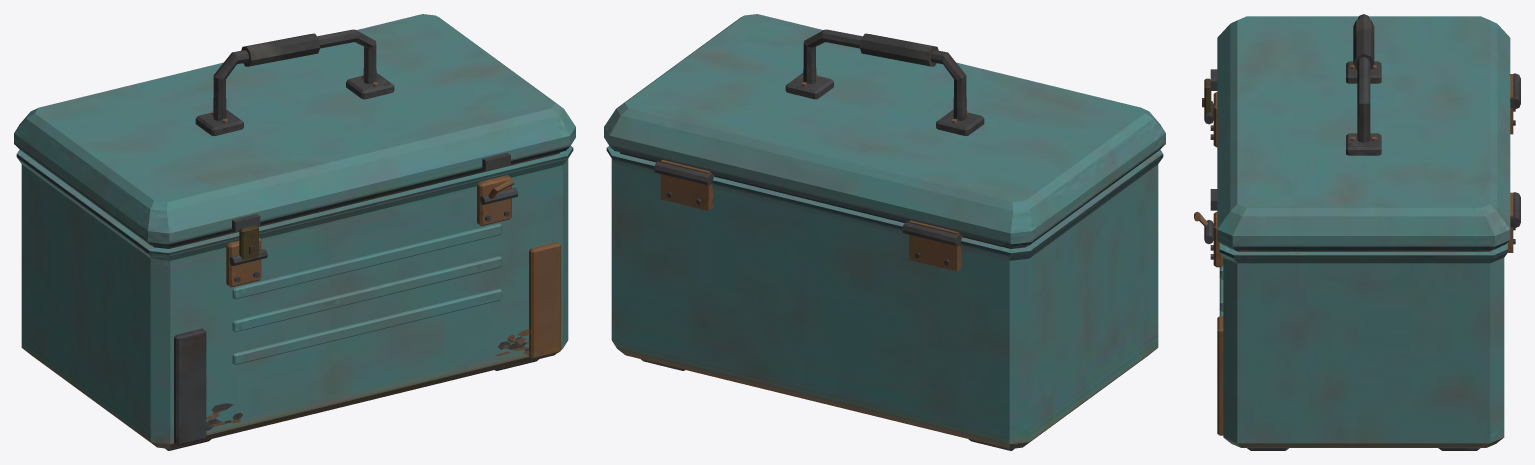
The model's file is D24_metal_toolbox_v2.glb.
3 renders of one model, left to right at view 1: azimuth 30°, elevation 25°; view 2: azimuth 150°, elevation 25°; view 3: azimuth 270°, elevation 25°, orthographic. The views are drawn at different scales.
Parts seen in each view (by area): view 1: Metal Toolbox; view 2: Metal Toolbox; view 3: Metal Toolbox.
Boxes of the visible parts, x1,y1,x2,y2 form: Metal Toolbox: [14, 14, 575, 450]; Metal Toolbox: [604, 14, 1165, 450]; Metal Toolbox: [1194, 14, 1520, 450].
Size of the model in its own units: 0.5 by 0.3671 by 0.3374.
6 materials, 6 textured.
